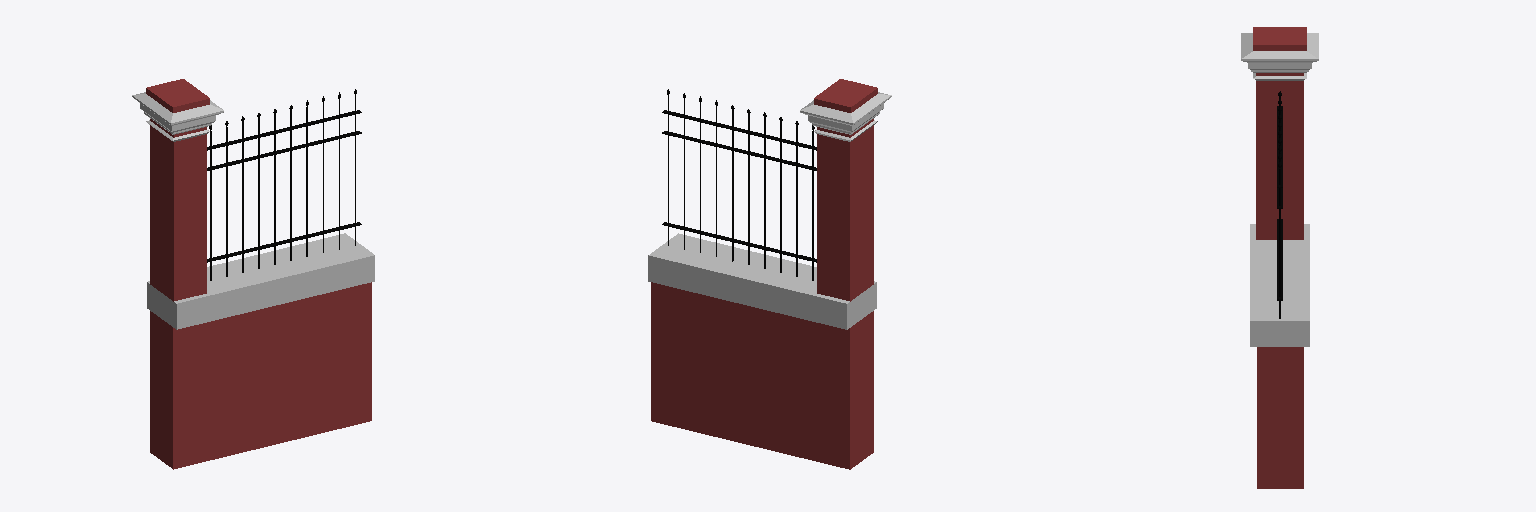
The model's file is muro.obj.
The picture shows the model from 3 angles: view 1: azimuth 30°, elevation 25°; view 2: azimuth 150°, elevation 25°; view 3: azimuth 270°, elevation 25°; orthographic projection.
Parts seen in each view (by area): view 1: Muro; view 2: Muro; view 3: Muro.
Boxes of the visible parts, box(x1,y1,x2,y2) form: Muro: box(132, 79, 374, 469); Muro: box(648, 79, 891, 469); Muro: box(1241, 27, 1318, 488).
Bounding box in the file's own units: 2.1 × 3.5 × 0.6715.